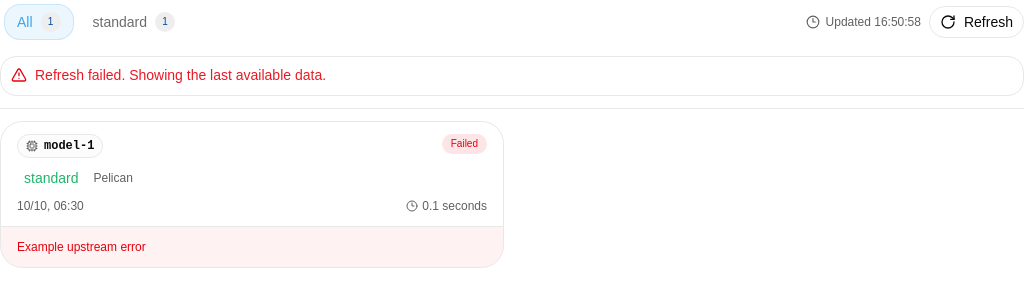
Scenario: keeps cached cards and group tabs available when refresh fails, and recovers on retry
This screenshot has width=1036, height=285.
Expected: the text "Refresh failed. Showing the last available data." is shown, [35,67,326,83]
Expected: the element named "Model: model-1" is shown, [17,134,103,158]
Click the button "Refresh". click: (976, 22)
box: [929,6,1024,38]
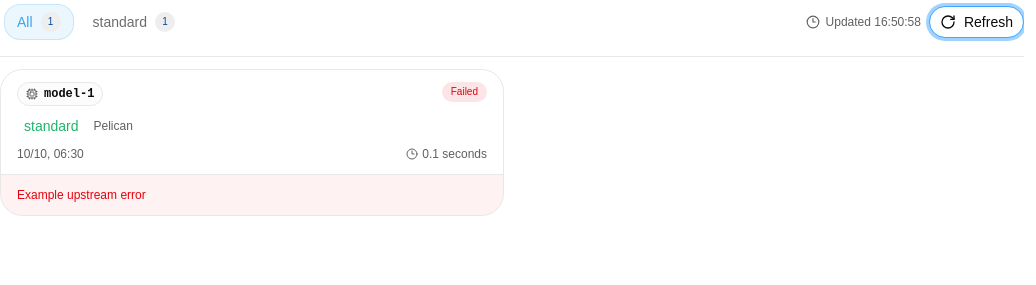
Now the text "Refresh failed. Showing the last available data." is gone
